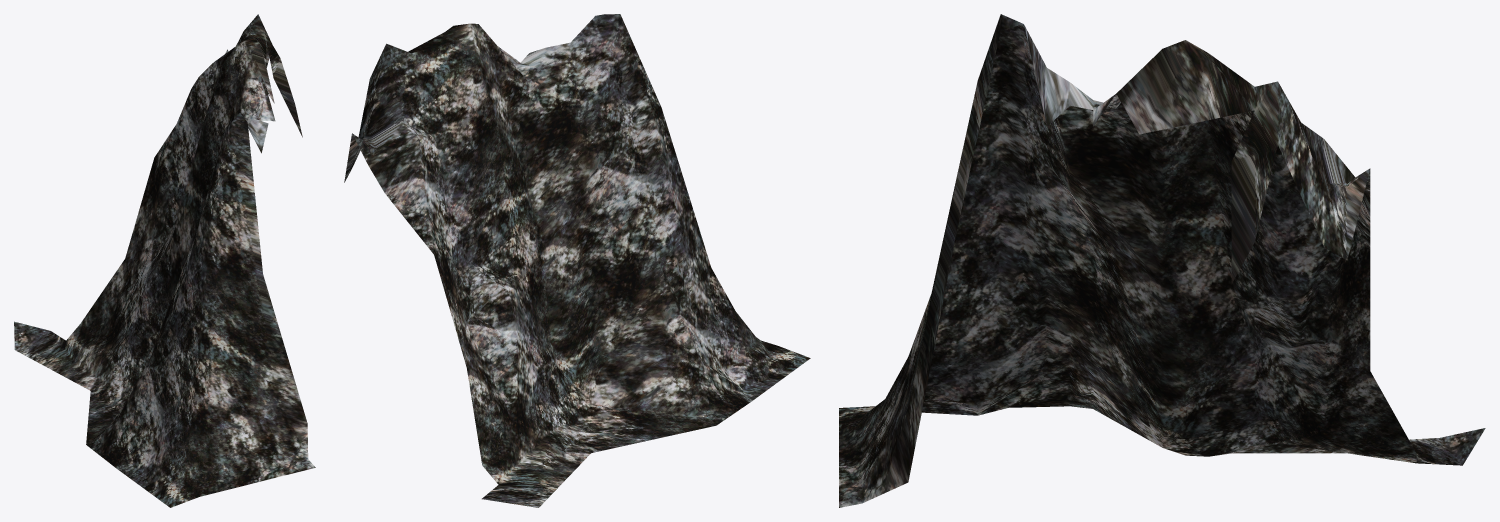
Rendered from OVERHILL_A_01_OBJECT09.fbx.
The picture shows the model from 3 angles, left to right: view 1: azimuth 30°, elevation 25°; view 2: azimuth 150°, elevation 25°; view 3: azimuth 270°, elevation 25°; orthographic projection. The views are drawn at different scales.
Visible parts, largest first — view 1: OVERHILL_A_01_OBJECT09; view 2: OVERHILL_A_01_OBJECT09; view 3: OVERHILL_A_01_OBJECT09.
Boxes of the visible parts, box(x1,y1,x2,y2) form: OVERHILL_A_01_OBJECT09: box(14, 14, 315, 507); OVERHILL_A_01_OBJECT09: box(344, 14, 810, 507); OVERHILL_A_01_OBJECT09: box(839, 14, 1485, 507).
Bounding box in the file's own units: 246894 × 302177 × 349027.
1 material, 1 textured.
